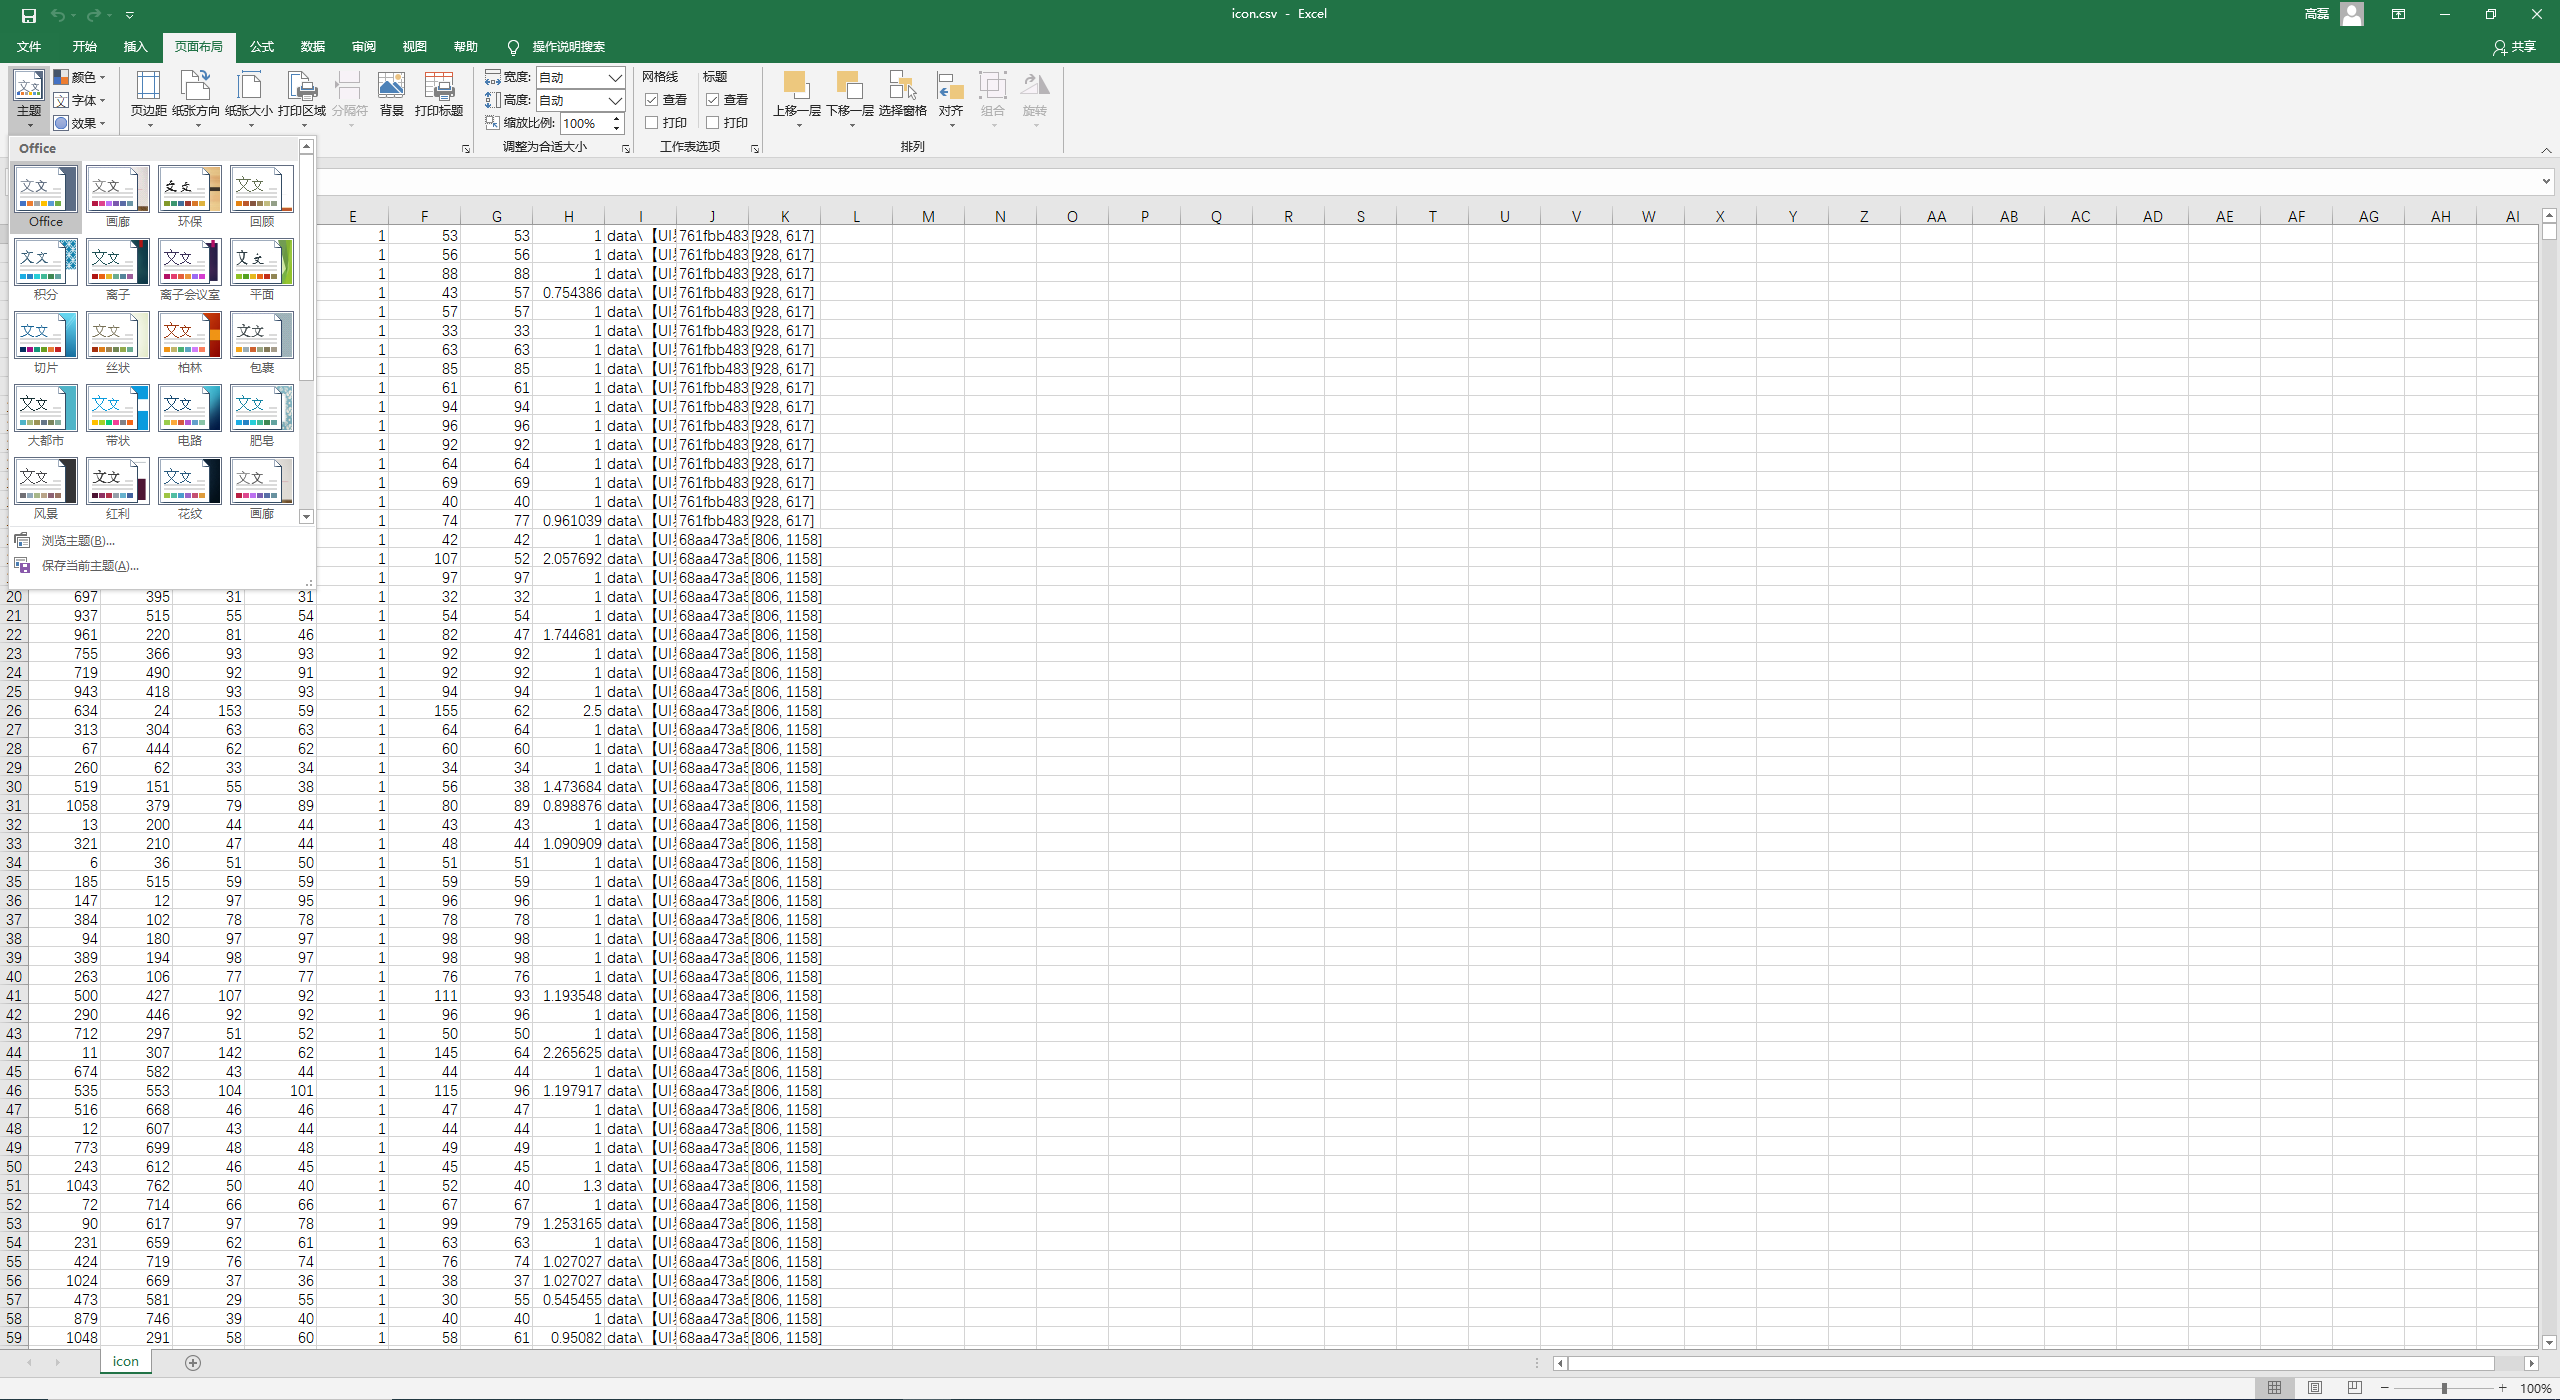character: (1227, 5, 1336, 22), (41, 557, 129, 574), (533, 38, 610, 55), (502, 140, 591, 153), (41, 534, 119, 547), (157, 288, 217, 302), (660, 140, 722, 152), (877, 103, 926, 117), (503, 117, 555, 129), (774, 103, 824, 116), (172, 103, 221, 116), (17, 143, 66, 155), (829, 103, 876, 116), (171, 214, 207, 229), (110, 1352, 140, 1371), (645, 67, 679, 83), (29, 214, 64, 229), (176, 41, 222, 52), (226, 105, 272, 116), (352, 36, 379, 53), (503, 91, 529, 109), (279, 105, 329, 114), (300, 38, 328, 53), (453, 38, 481, 53), (415, 107, 464, 116), (245, 214, 279, 226), (248, 40, 278, 53), (402, 38, 428, 53), (541, 91, 567, 107), (28, 290, 60, 302), (247, 290, 279, 302), (28, 436, 66, 447), (250, 433, 278, 447), (131, 105, 167, 116), (334, 105, 371, 116), (564, 117, 595, 129), (102, 290, 133, 302), (2307, 5, 2331, 21), (938, 103, 964, 117), (71, 40, 97, 53), (703, 67, 729, 81), (2510, 41, 2539, 53), (72, 91, 95, 107), (72, 114, 95, 129), (541, 71, 564, 86), (665, 114, 688, 129), (726, 114, 748, 129), (34, 360, 59, 374), (103, 434, 131, 447), (505, 71, 533, 83), (664, 91, 688, 105), (898, 141, 926, 153), (122, 41, 148, 53), (16, 103, 41, 116), (109, 509, 134, 521), (176, 509, 202, 521), (247, 509, 272, 521), (176, 436, 205, 447), (2522, 1383, 2551, 1393), (178, 362, 202, 374), (105, 216, 129, 228), (379, 105, 403, 117), (979, 107, 1007, 117), (72, 71, 95, 83), (726, 93, 748, 105), (1022, 105, 1053, 114), (33, 509, 59, 519), (105, 362, 129, 372), (248, 364, 276, 372), (17, 41, 40, 52)
icon: (16, 238, 79, 284), (90, 166, 148, 216), (231, 384, 291, 433), (160, 312, 221, 359), (160, 238, 217, 286), (231, 460, 288, 509), (231, 240, 290, 286), (88, 459, 147, 505), (88, 314, 145, 360), (160, 384, 217, 431), (17, 314, 76, 359), (159, 167, 217, 212), (88, 386, 148, 429), (90, 240, 145, 286), (233, 314, 286, 360), (16, 386, 71, 431), (160, 459, 215, 503), (229, 167, 279, 214), (17, 459, 69, 503), (16, 167, 66, 210), (284, 67, 321, 103), (10, 67, 47, 102), (421, 69, 457, 103), (976, 67, 1010, 102), (779, 67, 814, 102), (178, 67, 214, 100), (833, 67, 865, 102), (331, 69, 364, 102), (888, 67, 919, 102), (376, 69, 409, 100), (133, 67, 164, 100), (233, 67, 265, 98), (934, 69, 964, 102), (1019, 71, 1052, 97), (2296, 1379, 2331, 1398), (2258, 1378, 2289, 1398), (2338, 1378, 2369, 1398), (2338, 2, 2363, 26), (2526, 2, 2546, 22), (183, 1352, 203, 1372), (17, 5, 38, 24), (483, 67, 503, 86), (2481, 3, 2501, 22), (2388, 3, 2408, 22), (2434, 3, 2455, 22), (298, 136, 315, 159), (17, 117, 41, 133), (52, 90, 71, 109), (483, 90, 502, 109), (2489, 38, 2508, 57), (12, 529, 31, 548), (52, 67, 71, 84), (52, 114, 71, 131), (14, 553, 31, 572), (607, 91, 626, 109), (84, 7, 102, 24), (503, 40, 522, 55), (483, 114, 502, 129), (1552, 1355, 1570, 1371), (48, 7, 66, 22), (703, 91, 721, 107), (703, 114, 721, 129), (748, 141, 765, 157), (2376, 1379, 2391, 1397), (643, 114, 659, 129), (2524, 1355, 2539, 1371), (2494, 1379, 2510, 1395), (2538, 176, 2555, 190), (643, 91, 659, 105), (2543, 205, 2557, 221), (300, 507, 314, 522), (2543, 1334, 2557, 1350), (345, 117, 359, 131), (2539, 143, 2553, 157), (121, 9, 136, 21), (97, 117, 109, 133), (245, 117, 259, 129), (297, 117, 310, 129), (191, 117, 205, 129), (621, 141, 633, 155), (609, 72, 622, 84), (846, 117, 859, 131), (793, 117, 807, 129), (988, 117, 1002, 129), (97, 91, 109, 105), (143, 117, 155, 129), (460, 141, 472, 153), (67, 9, 78, 22), (105, 9, 116, 22), (97, 72, 110, 83), (612, 122, 622, 134), (946, 119, 958, 129), (1029, 119, 1041, 129), (2439, 1383, 2450, 1395), (610, 114, 622, 122), (26, 1359, 34, 1366), (53, 1359, 60, 1366)
